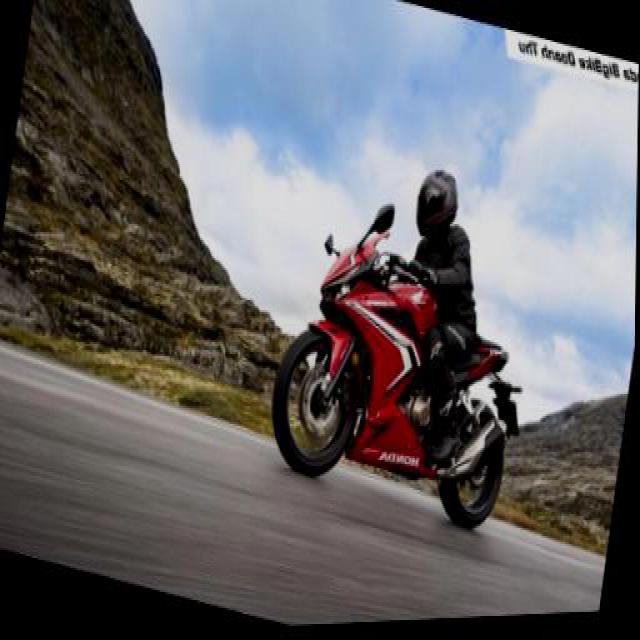CBR500R: (262, 203, 538, 551)
